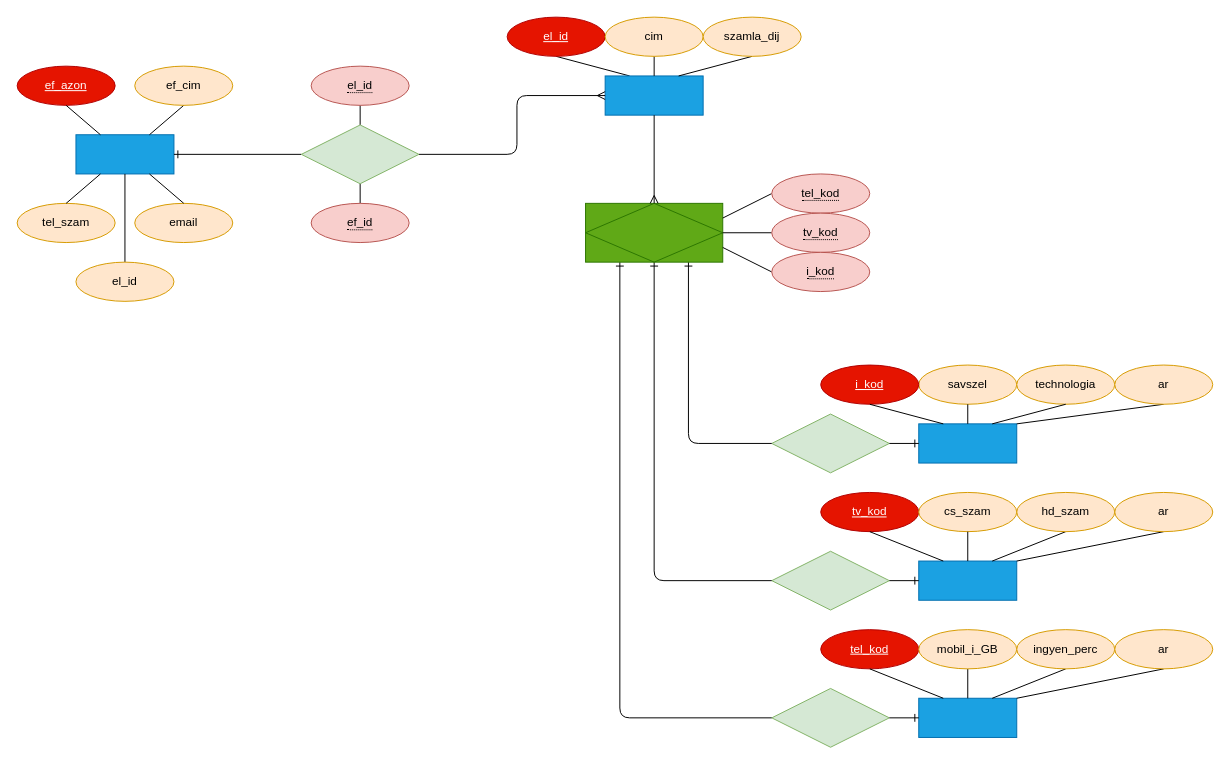
The diagram is 1230 pixels wide and 764 high, and some of its shapes have lost their labels. The shapes that lost their labels are listed below. From the top down, each one's centre as x and y in pixels, then its label:
the point at 653,95: Elofizetes
the point at 124,154: Elofizeto
the point at 359,154: szamla
the point at 654,232: labak
the point at 967,443: Internet
the point at 967,580: TV
the point at 967,717: Telefon
